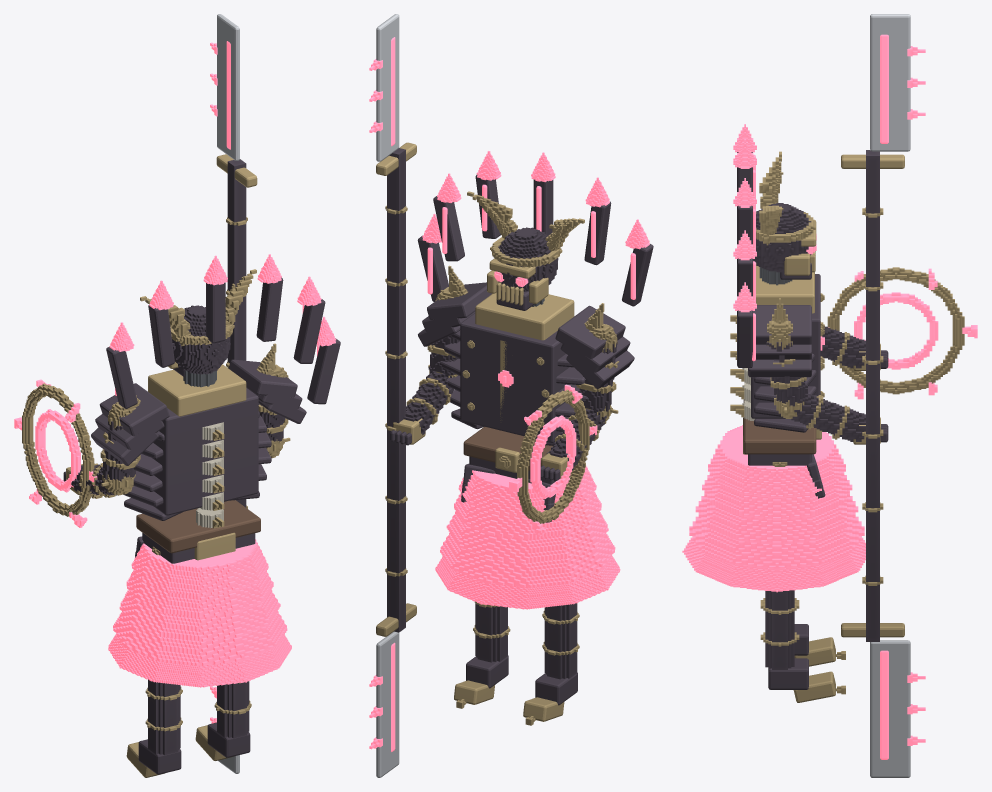
Rendered from enemy_08_abyssal_archon.glb.
3 renders of one model, left to right at view 1: azimuth 30°, elevation 25°; view 2: azimuth 150°, elevation 25°; view 3: azimuth 270°, elevation 25°, orthographic. The views are drawn at different scales.
Visible parts, largest first — view 1: Pelvis, Torso, SecondaryProp, ForearmR, ForearmL, Head, ShinL, ShinR, UpperArmL, UpperArmR; view 2: Pelvis, Torso, ForearmR, SecondaryProp, ForearmL, Head, ShinL, ShinR, UpperArmL, UpperArmR; view 3: Pelvis, ForearmR, Torso, ForearmL, Head, SecondaryProp, ShinR, UpperArmR, ShinL.
Boxes of the visible parts, bbox=[...] form: Pelvis: bbox=[108, 500, 291, 687]; Torso: bbox=[91, 343, 306, 528]; SecondaryProp: bbox=[106, 254, 340, 408]; ForearmR: bbox=[210, 14, 290, 773]; ForearmL: bbox=[14, 379, 135, 527]; Head: bbox=[140, 269, 256, 387]; ShinL: bbox=[126, 679, 182, 777]; ShinR: bbox=[195, 681, 251, 760]; UpperArmL: bbox=[100, 402, 140, 481]; UpperArmR: bbox=[258, 364, 289, 442]; Pelvis: bbox=[435, 426, 620, 609]; Torso: bbox=[418, 265, 634, 445]; ForearmR: bbox=[369, 14, 457, 777]; SecondaryProp: bbox=[417, 151, 653, 306]; ForearmL: bbox=[509, 384, 618, 536]; Head: bbox=[467, 191, 584, 310]; ShinL: bbox=[523, 603, 579, 725]; ShinR: bbox=[454, 601, 510, 708]; UpperArmL: bbox=[576, 324, 619, 411]; UpperArmR: bbox=[427, 287, 459, 375]; Pelvis: bbox=[682, 399, 865, 592]; ForearmR: bbox=[774, 14, 925, 777]; Torso: bbox=[730, 259, 824, 432]; ForearmL: bbox=[820, 267, 977, 399]; Head: bbox=[753, 151, 816, 285]; SecondaryProp: bbox=[733, 124, 756, 367]; ShinR: bbox=[760, 590, 845, 702]; UpperArmR: bbox=[766, 320, 807, 406]; ShinL: bbox=[760, 598, 845, 666].
Size of the model in its own units: 0.9286 by 2.9 by 1.02.
